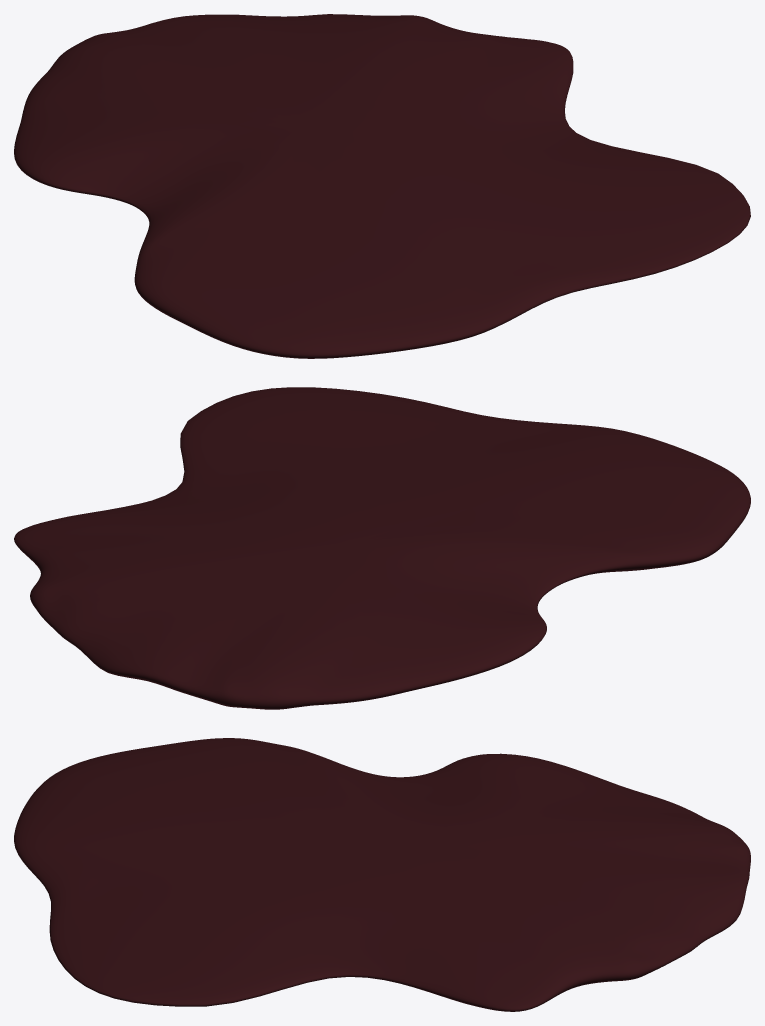
File: Oil.glb
3 renders of one model, top to bottom at view 1: azimuth 30°, elevation 25°; view 2: azimuth 150°, elevation 25°; view 3: azimuth 270°, elevation 25°, orthographic. The views are drawn at different scales.
Visible parts, largest first — view 1: 円柱.006; view 2: 円柱.006; view 3: 円柱.006.
Boxes of the visible parts, x1,y1,x2,y2 form: 円柱.006: (14,14,750,358); 円柱.006: (14,387,750,709); 円柱.006: (14,738,750,1011).
Bounding box in the file's own units: 1.74 × 0.1256 × 2.06.
